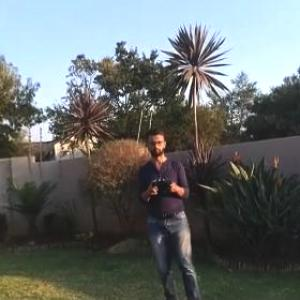follow: (134, 124, 207, 299)
